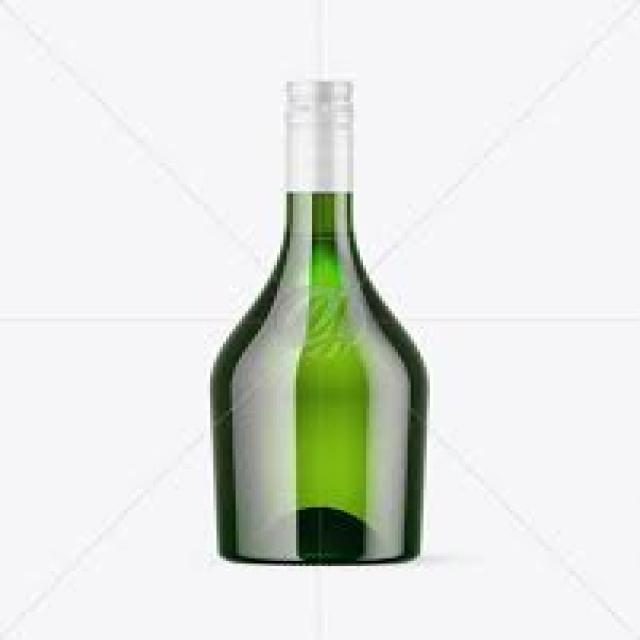glass: (207, 79, 427, 561)
